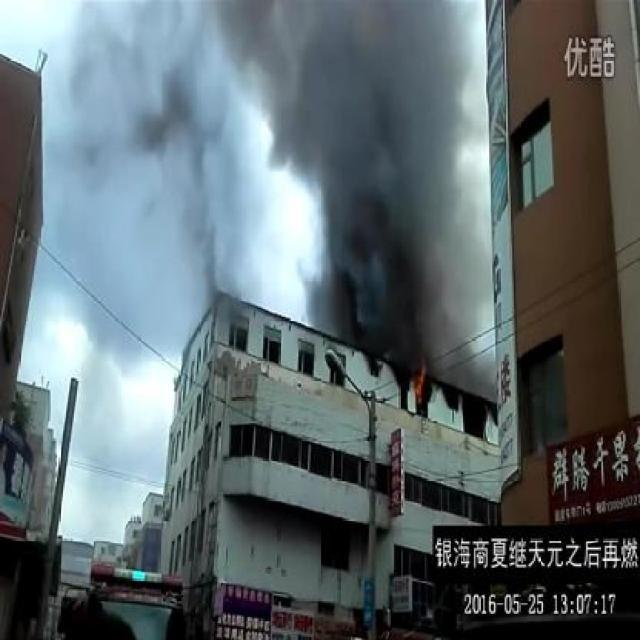Fire: (95, 14, 246, 292), (402, 362, 434, 408)
Smoke: (238, 0, 504, 362)
